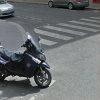Crosswalk: (35, 16, 100, 45)
